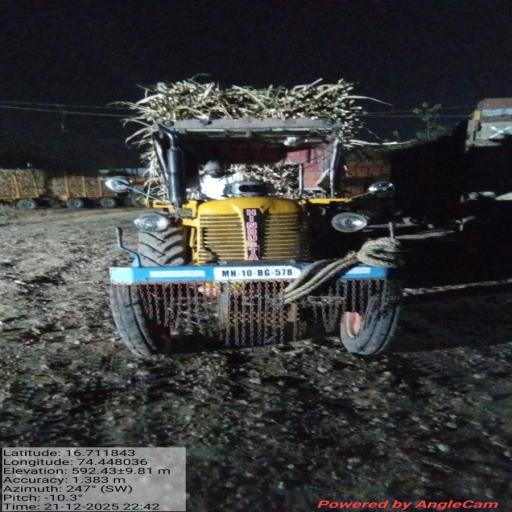number_plate: (211, 267, 309, 284)
